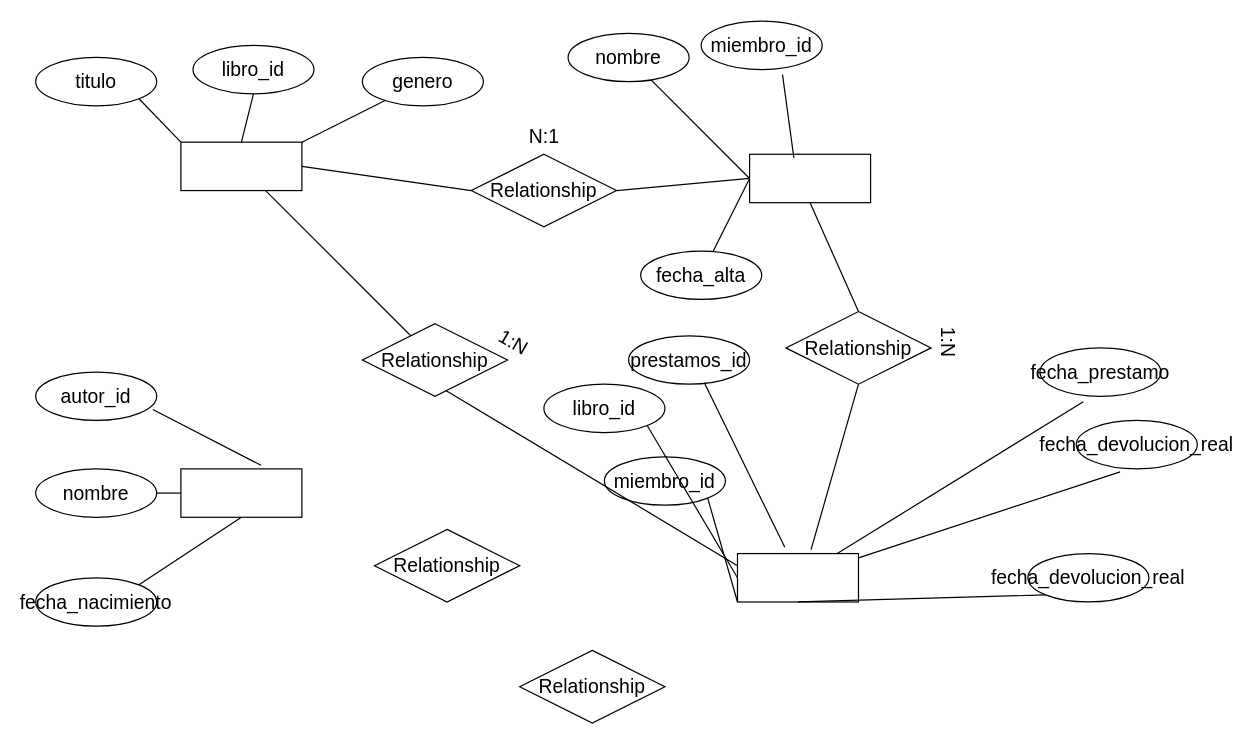
This 1255x744 diagram has some shape labels left out. Each missing label, with the centre of its shape:
autores: (241,492)
libros: (241,166)
miembros: (809,178)
prestamos: (797,577)
